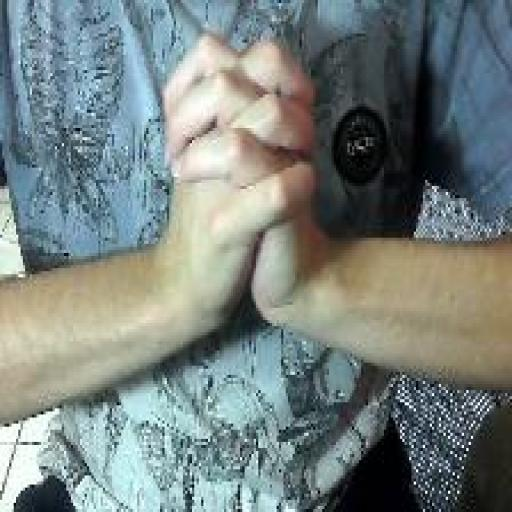Mi -snake-: (158, 29, 320, 337)
